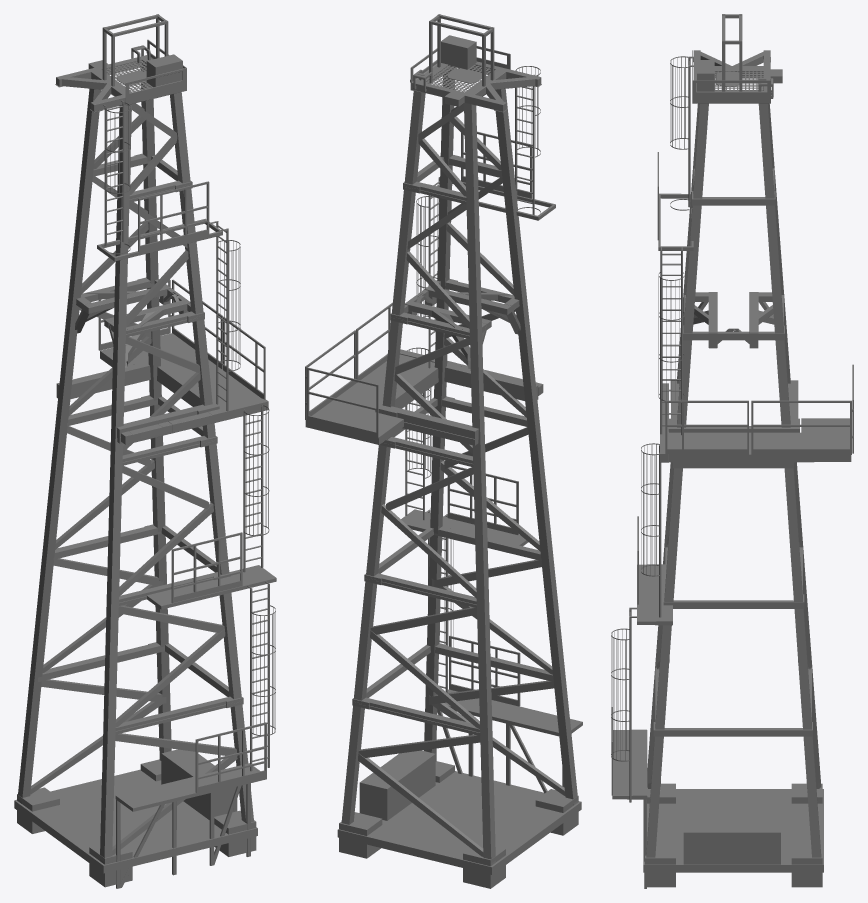
File: RadioFeeder.FBX
3 renders of one model, left to right at view 1: azimuth 30°, elevation 25°; view 2: azimuth 150°, elevation 25°; view 3: azimuth 270°, elevation 25°, orthographic.
Visible parts, largest first — view 1: Antenne; view 2: Antenne; view 3: Antenne.
Boxes of the visible parts, x1,y1,x2,y2 form: Antenne: (14,14,276,888); Antenne: (305,14,582,888); Antenne: (611,14,853,888).
Bounding box in the file's own units: 150 × 675 × 180.
